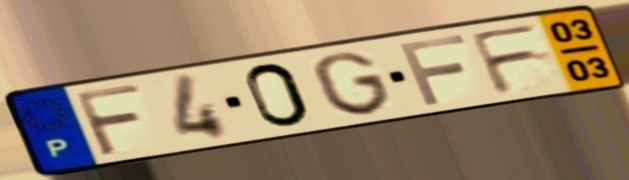0: (241, 60, 315, 130)
4: (168, 70, 231, 144)
F: (465, 20, 546, 98), (70, 81, 149, 159), (394, 32, 471, 108)
G: (309, 48, 396, 119)
